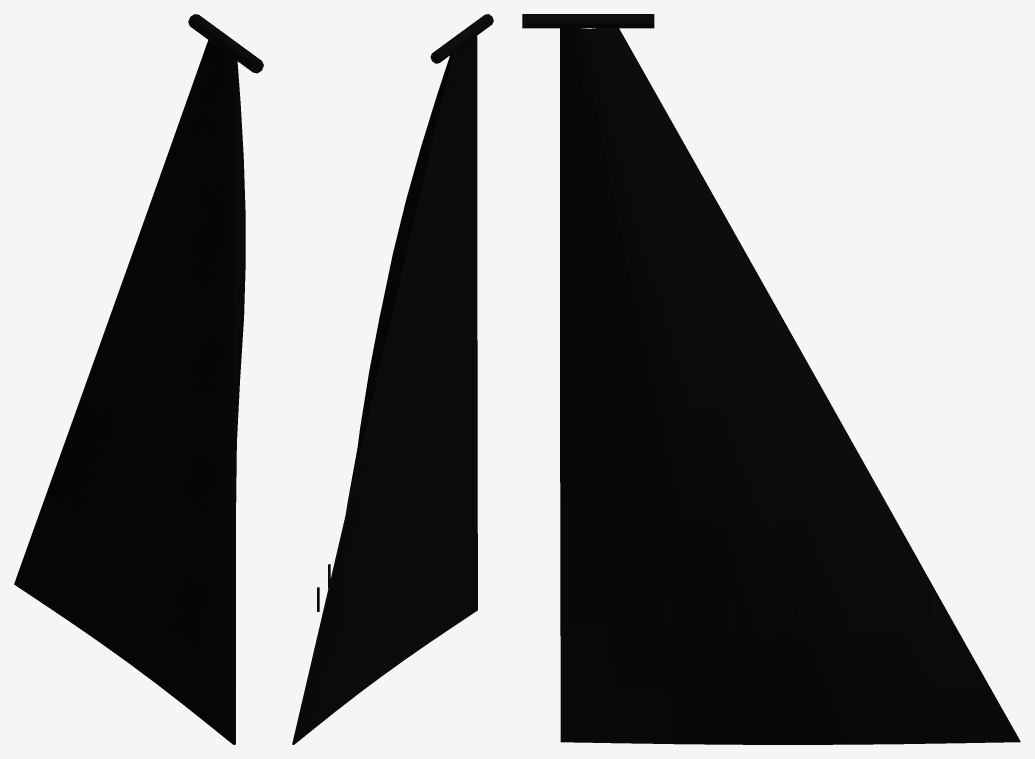
File: upgrade_canvas_mainsail.unity-fbx.fbx
3 renders of one model, left to right at view 1: azimuth 30°, elevation 25°; view 2: azimuth 150°, elevation 25°; view 3: azimuth 270°, elevation 25°, orthographic. The views are drawn at different scales.
Parts seen in each view (by area): view 1: upgrade_canvas_mainsail_mesh; view 2: upgrade_canvas_mainsail_mesh; view 3: upgrade_canvas_mainsail_mesh.
Part boxes in pixels (left/top/right/bottom): upgrade_canvas_mainsail_mesh: left=14, top=14, right=263, bottom=744; upgrade_canvas_mainsail_mesh: left=292, top=14, right=493, bottom=744; upgrade_canvas_mainsail_mesh: left=522, top=14, right=1020, bottom=744.
Size of the model in its own units: 0.5816 by 7.32 by 4.53.
Materials: 1 (1 with a texture image).
